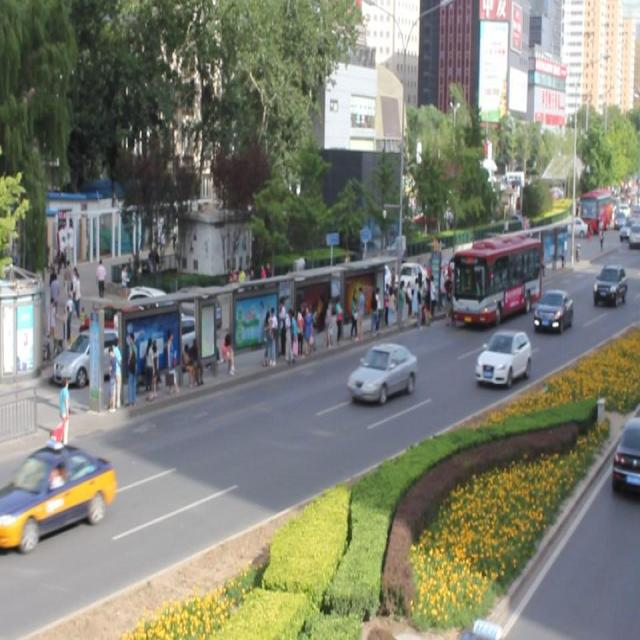car: (1, 442, 114, 544), (345, 340, 416, 401), (473, 326, 528, 384), (532, 288, 572, 334), (592, 263, 626, 306)
van: (447, 232, 538, 326)
